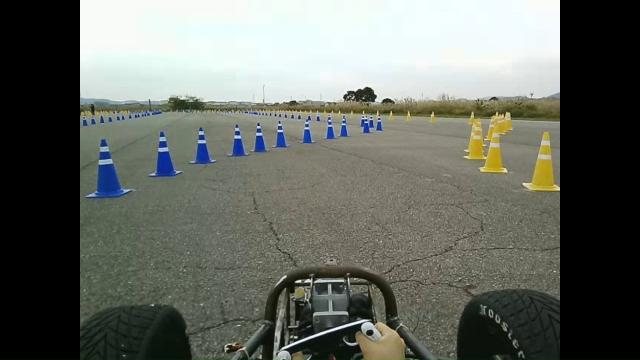blue cone: (85, 132, 136, 200), (145, 126, 186, 179), (186, 122, 218, 166), (224, 120, 250, 158), (250, 118, 270, 152), (298, 117, 320, 145), (273, 118, 290, 149)
yellow cone: (522, 131, 560, 192), (479, 132, 508, 173)
